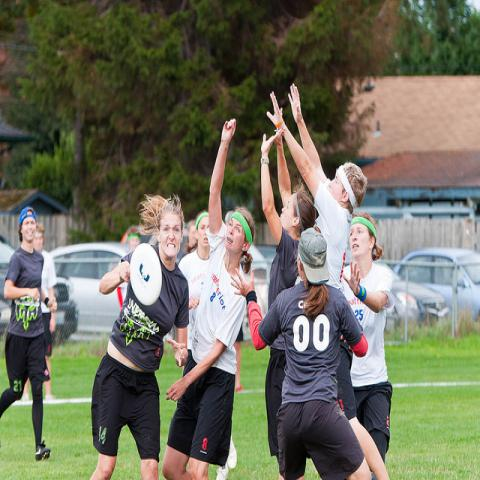car: (49, 242, 136, 334), (394, 246, 480, 320), (385, 267, 450, 334), (242, 243, 269, 340), (54, 284, 76, 346), (0, 234, 18, 269)
